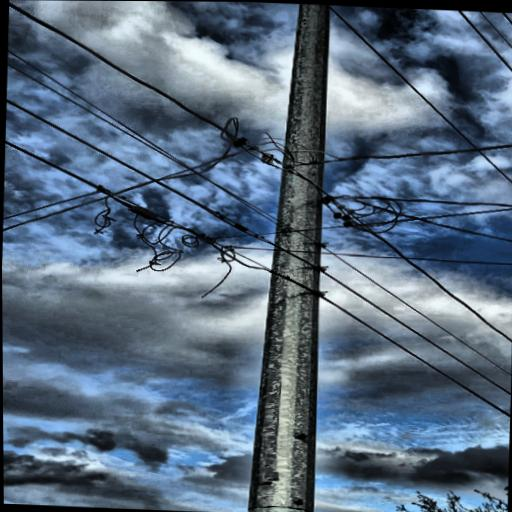pole: (220, 2, 347, 512)
